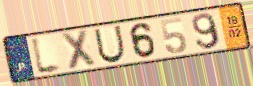5: (158, 16, 189, 55)
6: (128, 22, 158, 60)
9: (190, 12, 222, 51)
L: (29, 34, 66, 78)
U: (92, 24, 127, 65)
X: (59, 28, 98, 72)
